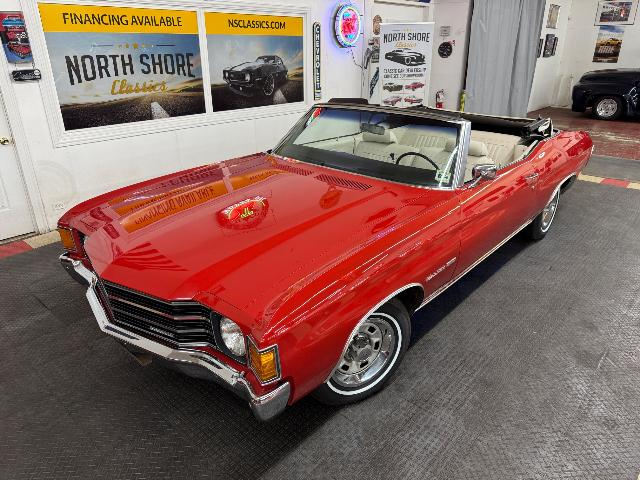chevelle-1972: (60, 102, 592, 420)
